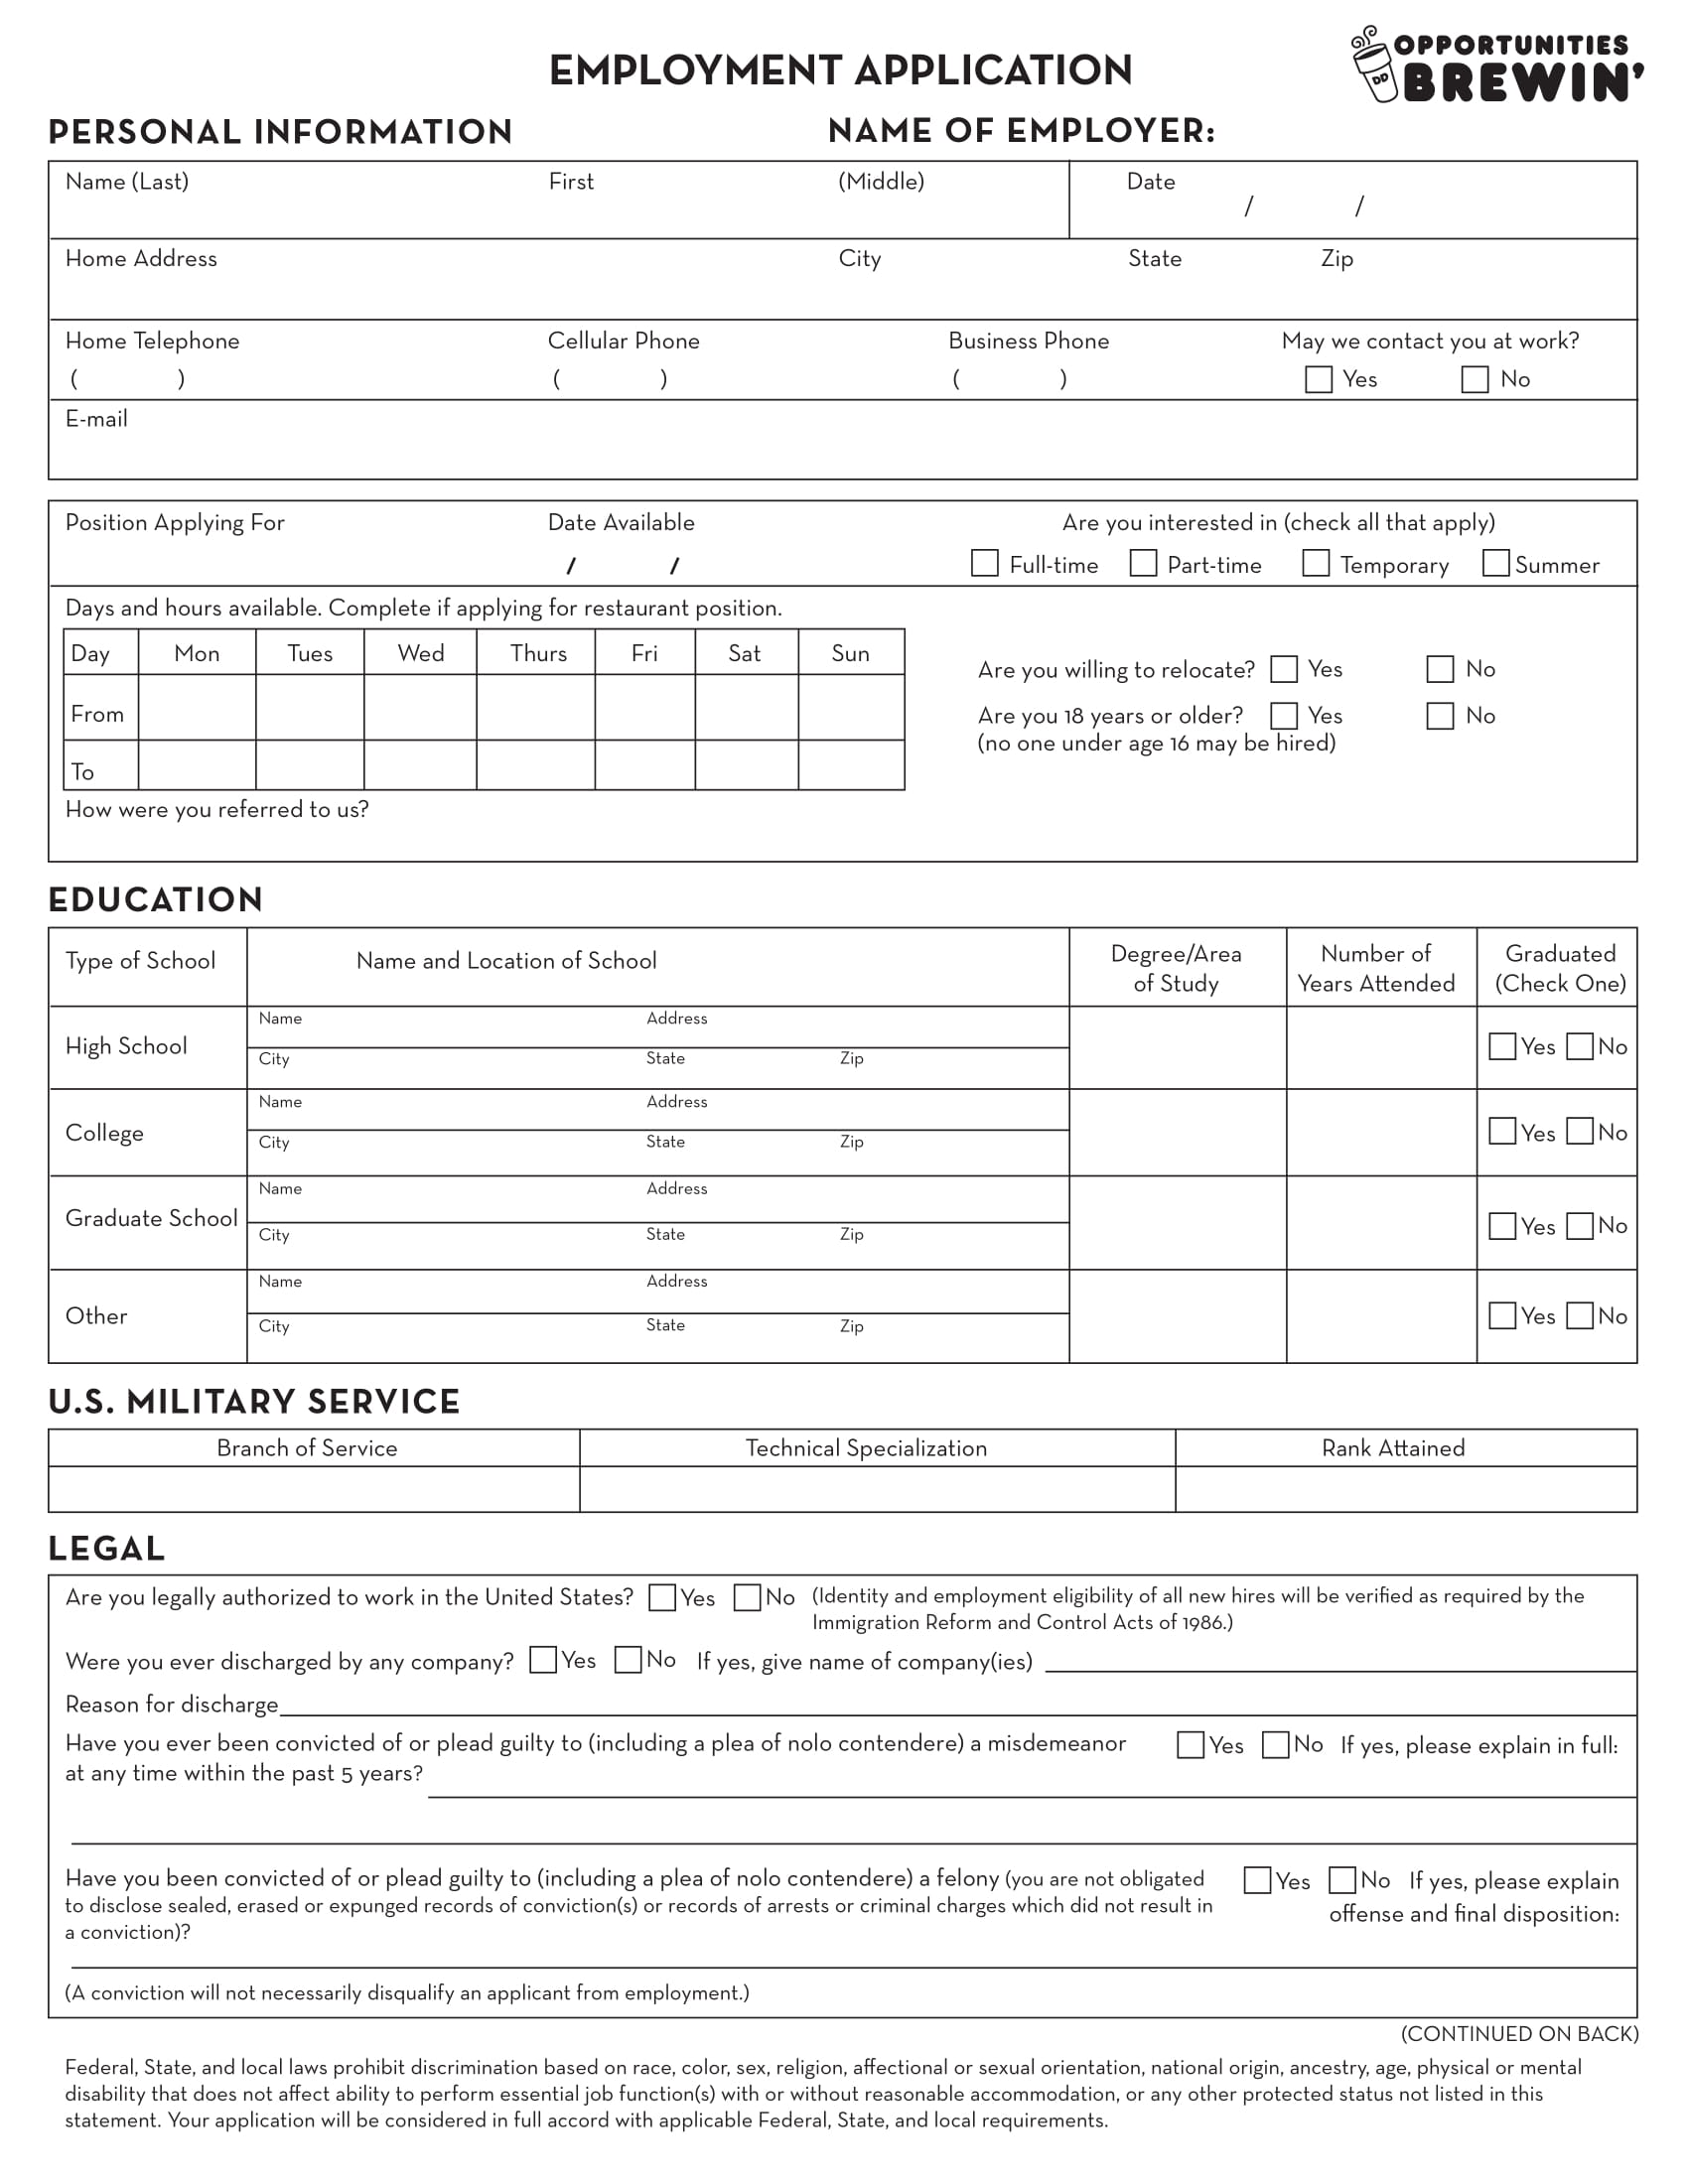table: (50, 1574, 1635, 2023), (48, 927, 1638, 1361), (48, 498, 1633, 865), (50, 161, 1635, 477), (50, 1427, 1638, 1514)
